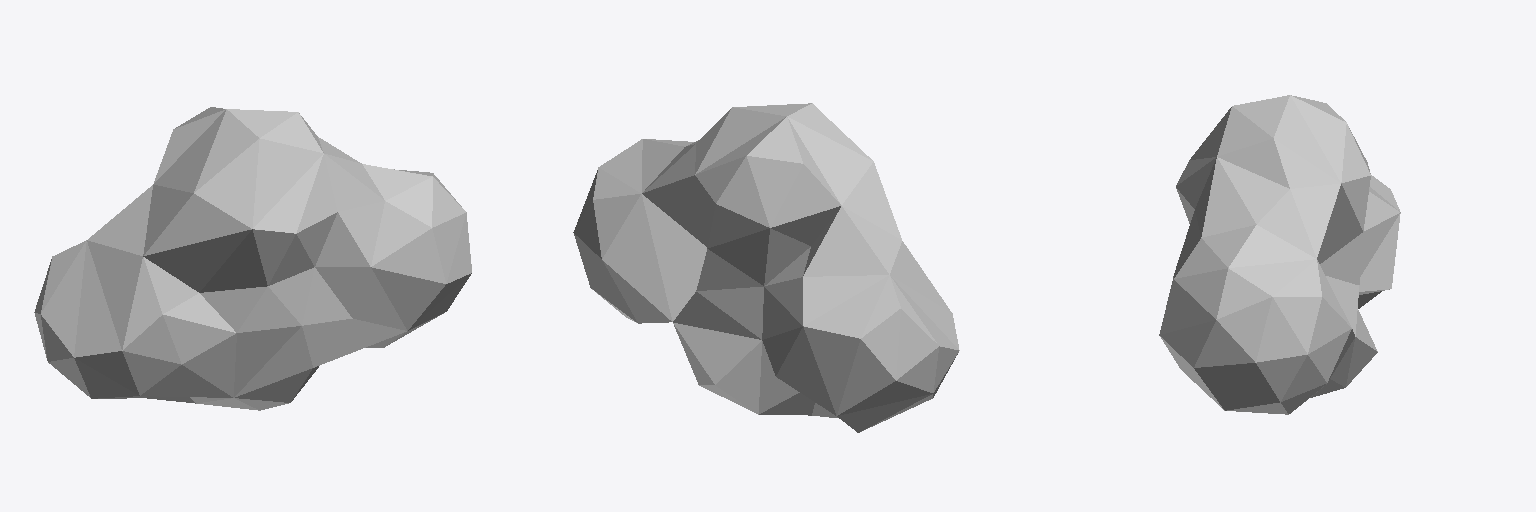
File: cloud2.obj
3 renders of one model, left to right at view 1: azimuth 30°, elevation 25°; view 2: azimuth 150°, elevation 25°; view 3: azimuth 270°, elevation 25°, orthographic.
Parts seen in each view (by area): view 1: Sphere.003; view 2: Sphere.003; view 3: Sphere.003.
Part boxes in pixels (bbox=[...]): Sphere.003: bbox=[34, 107, 471, 410]; Sphere.003: bbox=[573, 103, 959, 432]; Sphere.003: bbox=[1159, 95, 1400, 414].
Size of the model in its own units: 2.23 by 1.64 by 1.2.